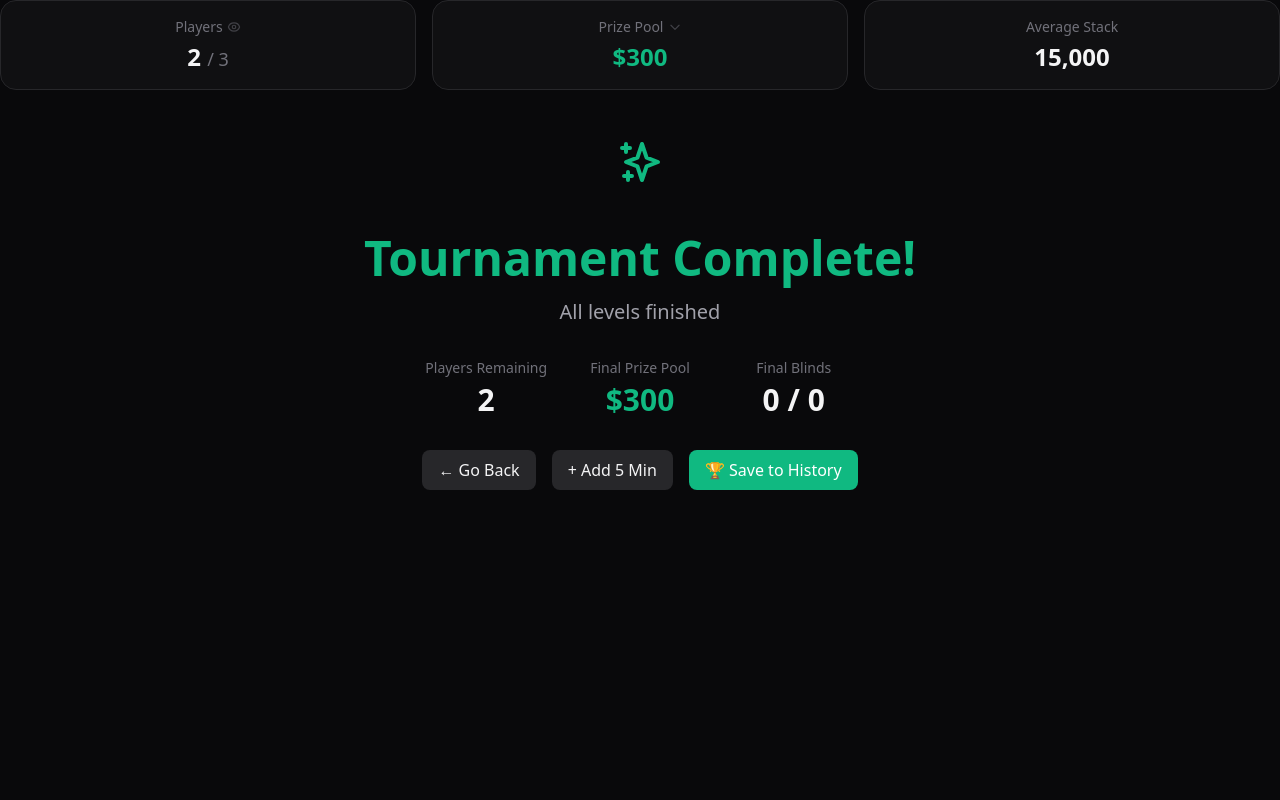
it: Timer Component › Tournament Complete State › opens winner prompt when save button clicked
Step 1. Click the button "🏆 Save to History" → [773, 470], box [689, 450, 858, 490]
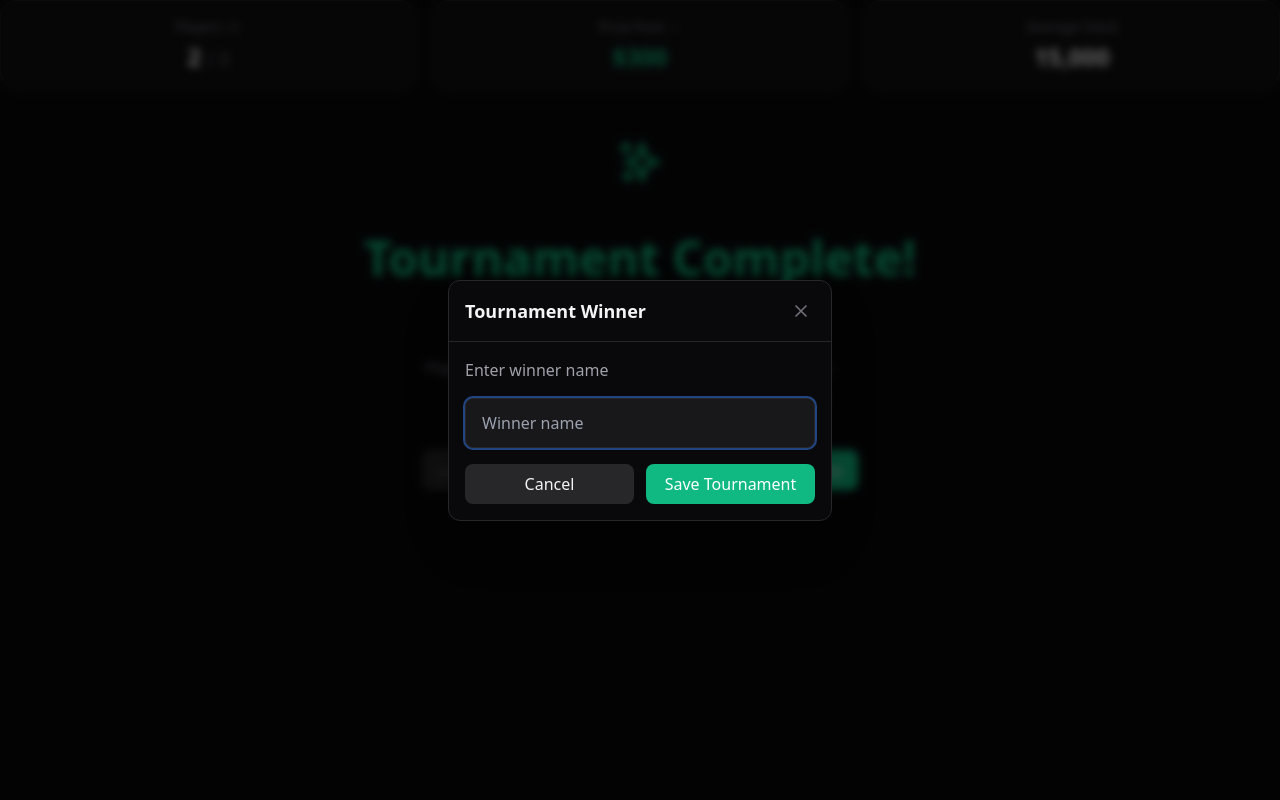
Expected: the heading "Tournament Winner" is shown, [465, 296, 646, 324]
